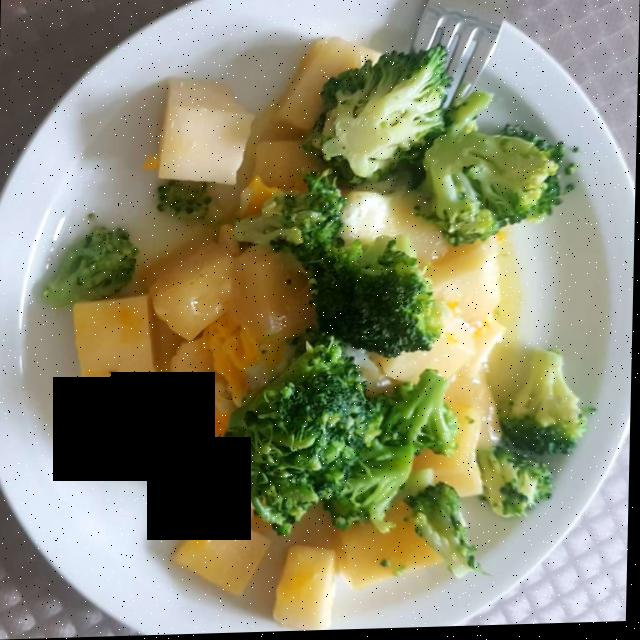egg-scrambled-prepared: (191, 317, 293, 502)
